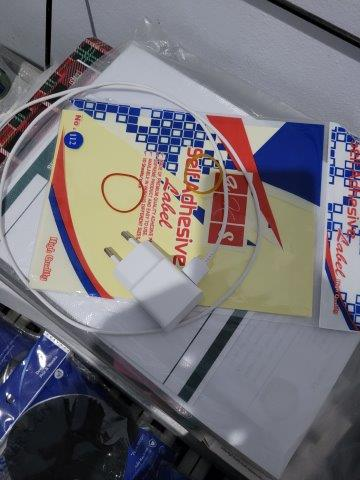karet: (183, 155, 226, 196), (100, 173, 144, 213)
